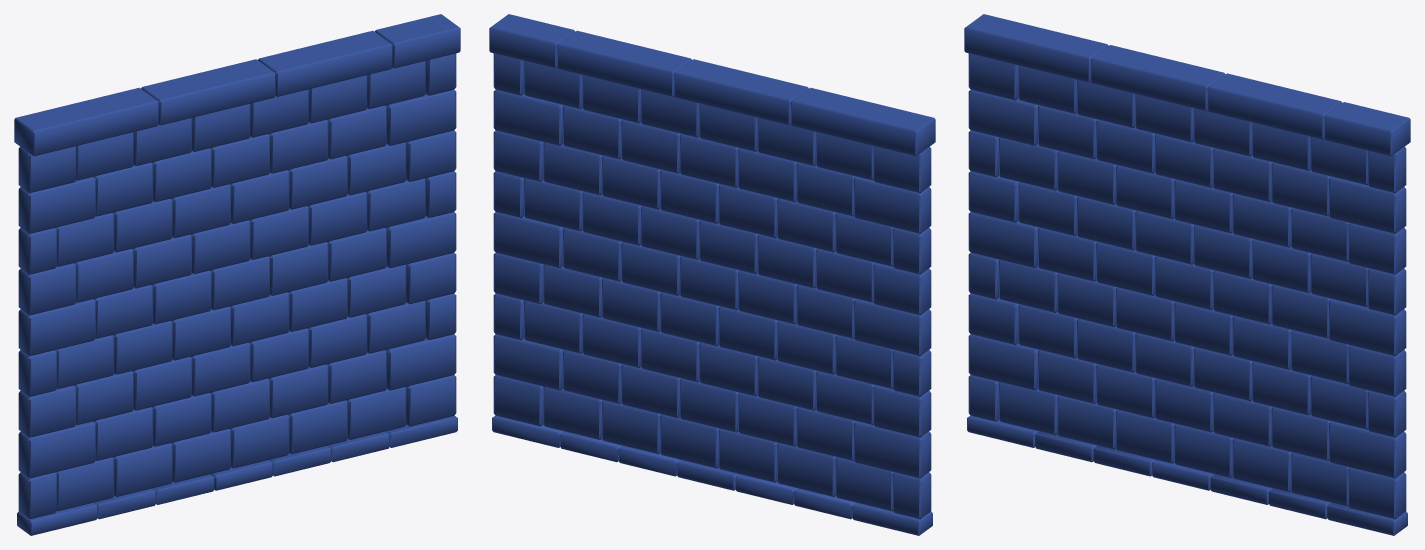
File: wall.fbx
The picture shows the model from 3 angles, left to right: view 1: azimuth 30°, elevation 25°; view 2: azimuth 150°, elevation 25°; view 3: azimuth 330°, elevation 25°; orthographic projection.
Parts seen in each view (by area): view 1: wall; view 2: wall; view 3: wall.
Boxes of the visible parts, bbox=[...] form: wall: bbox=[14, 14, 460, 535]; wall: bbox=[489, 14, 935, 535]; wall: bbox=[964, 14, 1410, 535].
Bounding box in the file's own units: 173 × 157 × 13.78.
